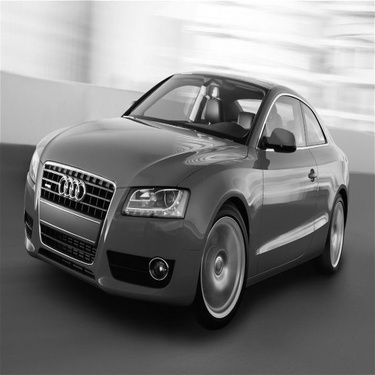car: (16, 63, 356, 344)
